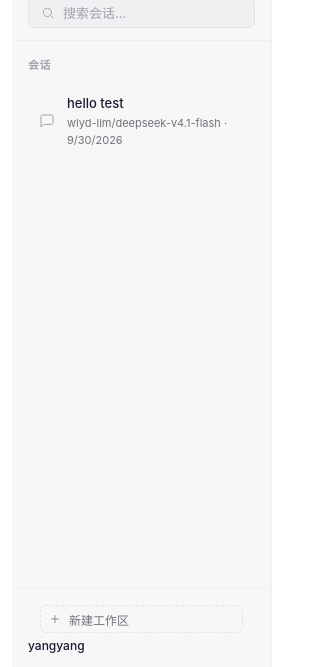
Test: Sidebar › 点击会话后跳转到对话视图
Click the text "hello test".
click(95, 103)  # box x1=67 y1=94 x2=124 y2=113
(page scrolled)
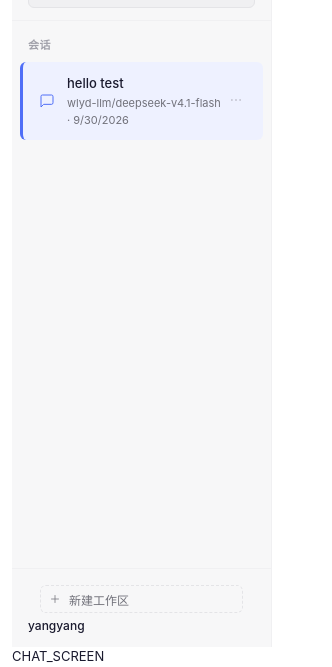
Check: the text "CHAT_SCREEN" is shown, box x1=12 y1=648 x2=104 y2=664
